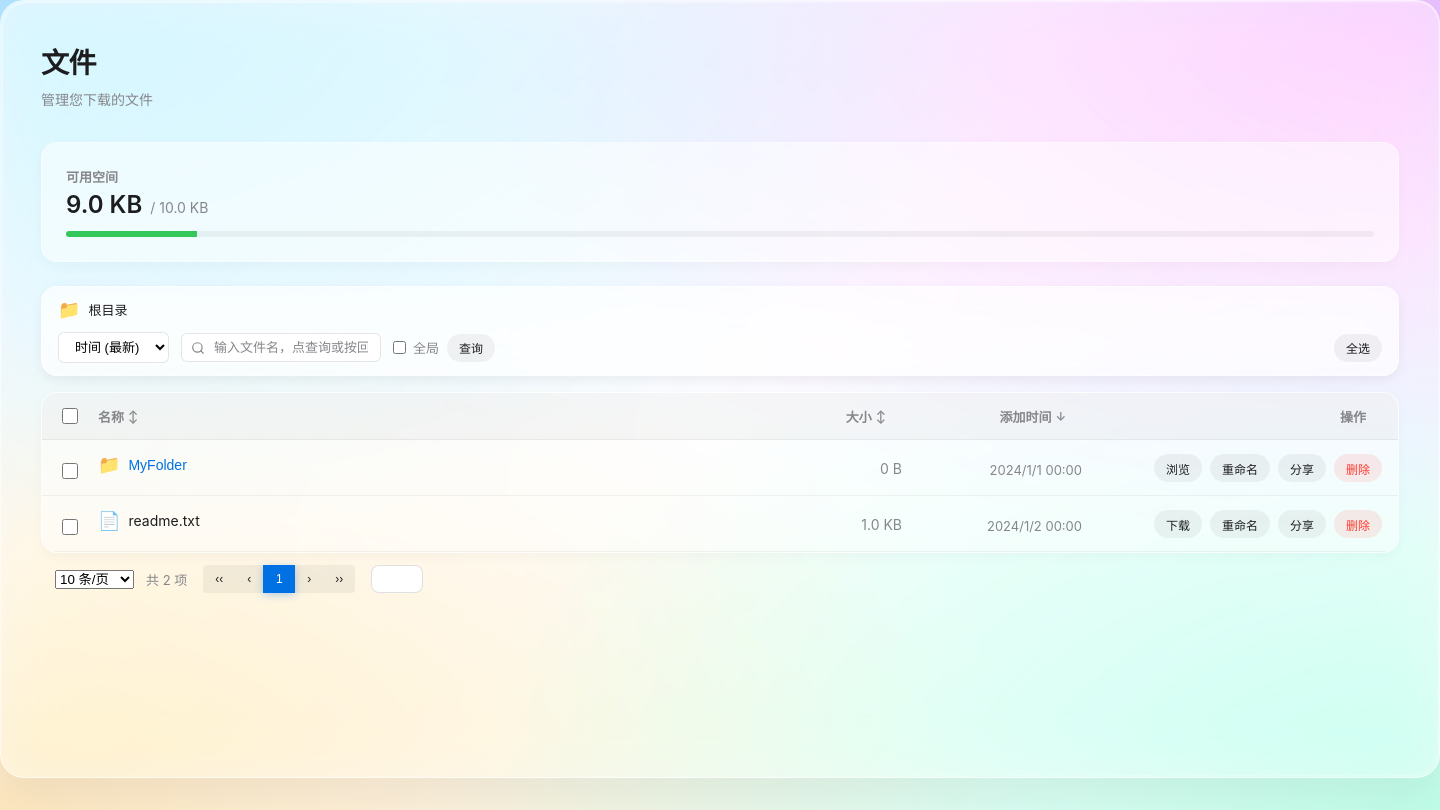
Test: Files page search › T19: locating an inner item browses to its parent folder path
The width and height of the screenshot is (1440, 810).
Expected: the button "MyFolder" is shown, [128, 456, 187, 472]
Type "inner" into the field named "搜索文件" at (281, 348), box [181, 333, 381, 362]
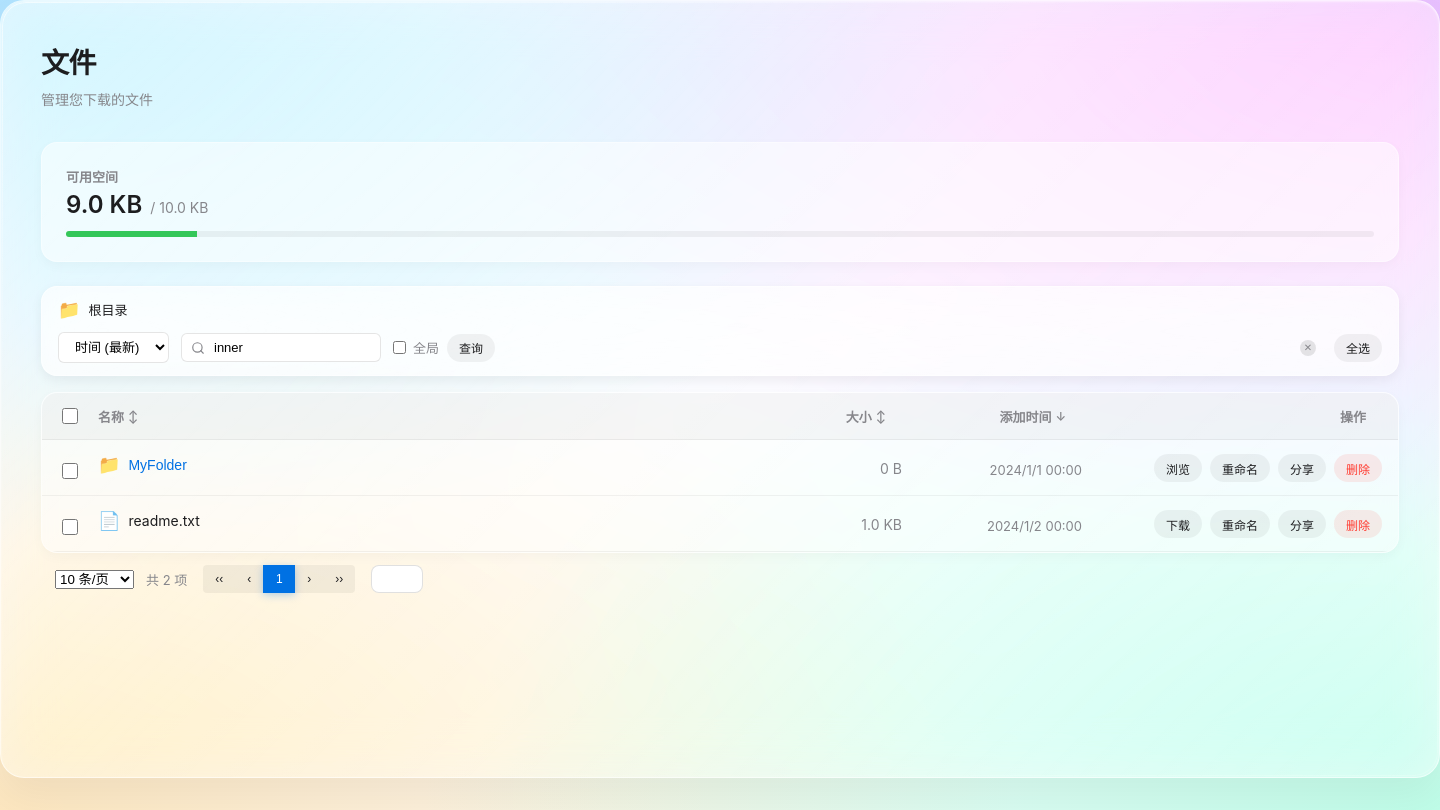
Press Enter in the field named "搜索文件", box [181, 333, 381, 362]
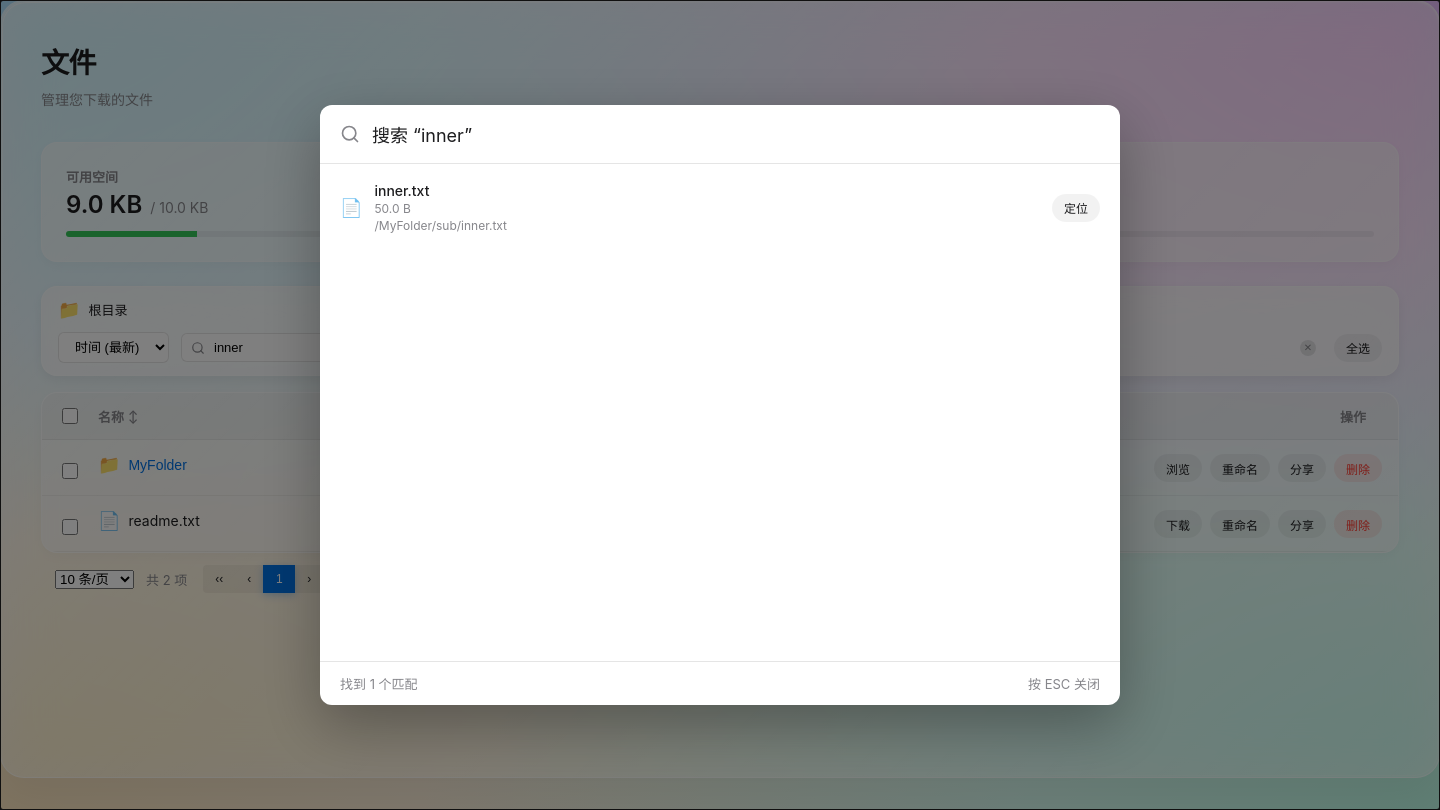
Click the button "定位" at (1076, 208), box [1052, 194, 1100, 222]
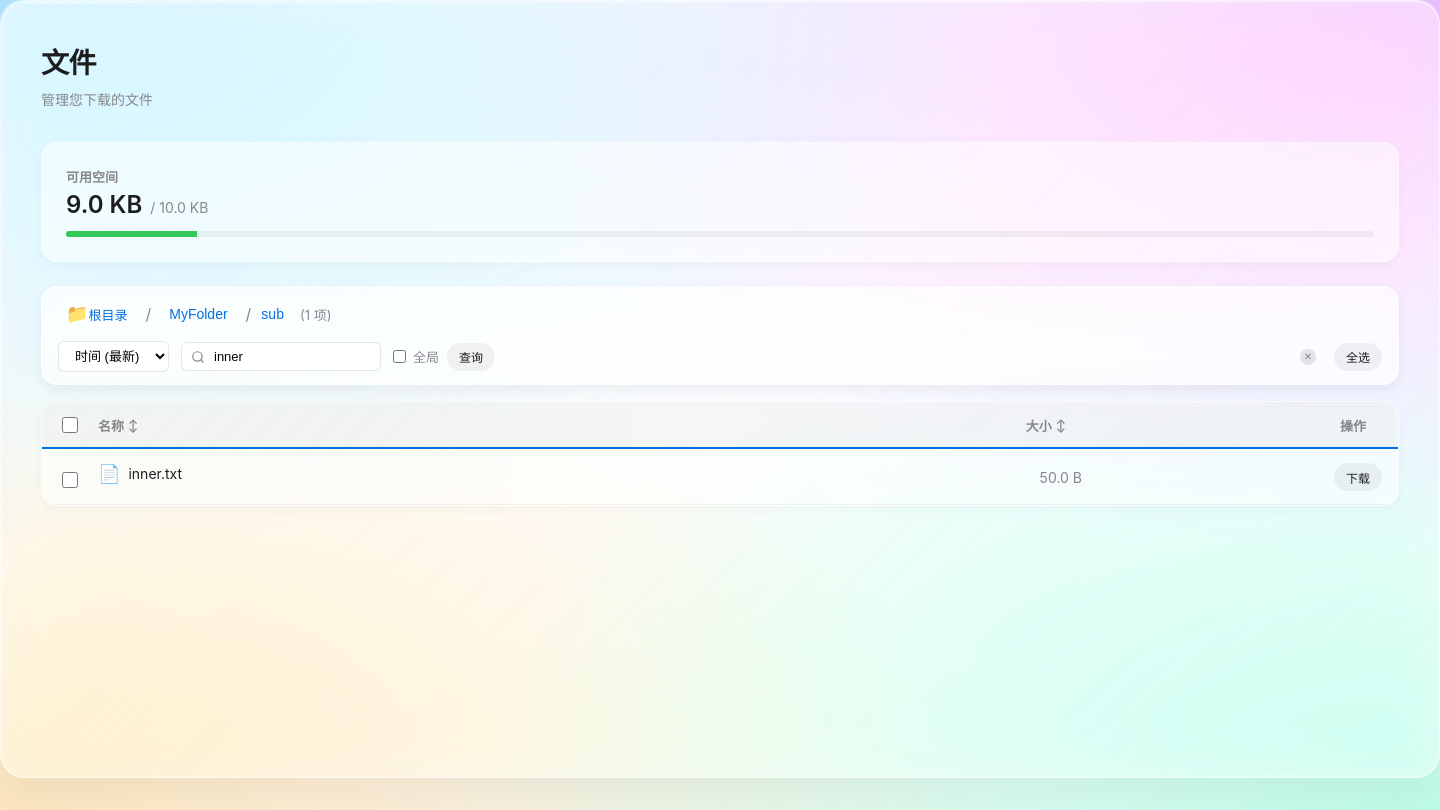
Expected: the button "MyFolder" is shown, [161, 302, 236, 326]
Expected: the dialog "搜索结果" is gone
Expected: the element with class "file-locate-highlight" shows "inner.txt", [128, 465, 182, 482]
